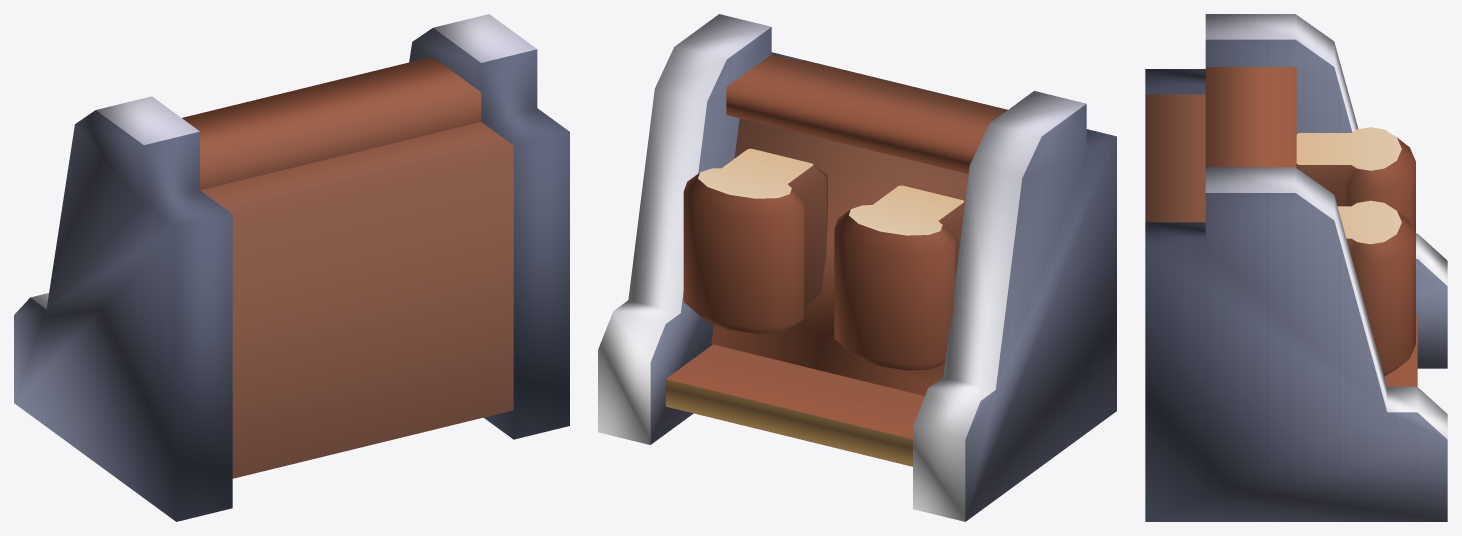
Rendered from display-bread.obj.
3 views of the same model, side by side, from view 1: azimuth 30°, elevation 25°; view 2: azimuth 150°, elevation 25°; view 3: azimuth 270°, elevation 25° (orthographic). The views are drawn at different scales.
Visible parts, largest first — view 1: display-bread.007; view 2: display-bread.007; view 3: display-bread.007.
Part boxes in pixels (x1,y1,x2,y2): display-bread.007: [14, 14, 569, 521]; display-bread.007: [598, 14, 1116, 521]; display-bread.007: [1145, 14, 1447, 521].
Bounding box in the file's own units: 0.7 × 0.6 × 0.5.
